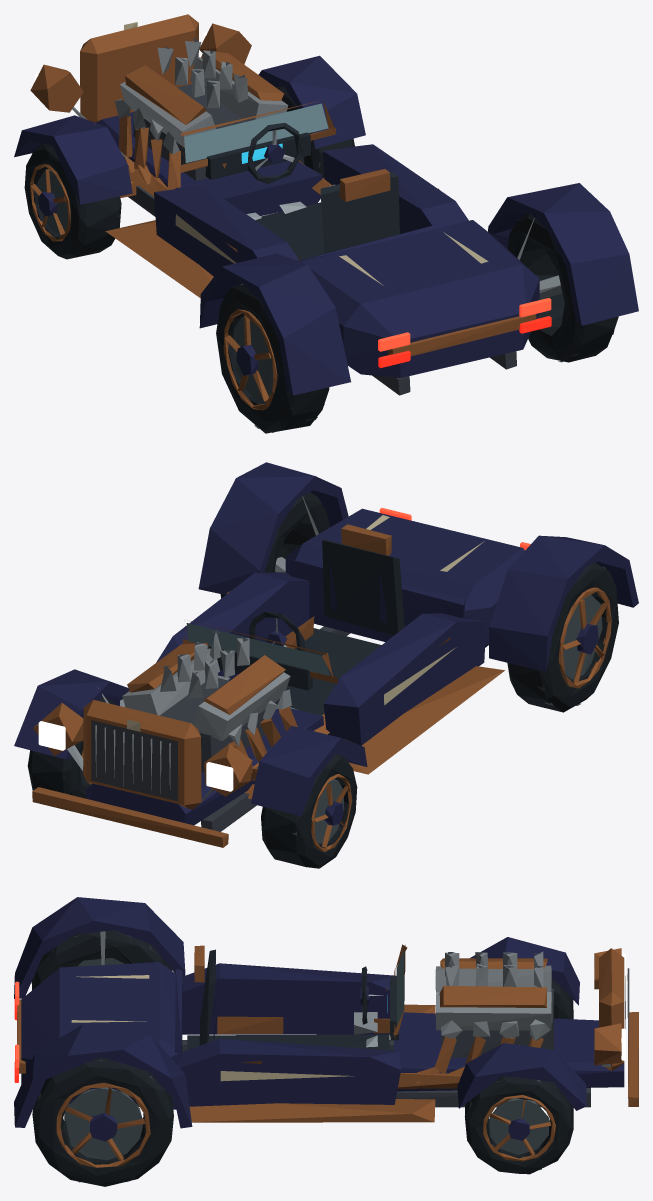
Rendered from comet_lod1.glb.
The picture shows the model from 3 angles, top to bottom: view 1: azimuth 30°, elevation 25°; view 2: azimuth 150°, elevation 25°; view 3: azimuth 270°, elevation 25°; orthographic projection. The views are drawn at different scales.
Visible parts, largest first — view 1: body_mesh, wheel_rl, wheel_fl, wheel_rr, steering_wheel, light_tail_mesh, wheel_fr, light_brake_mesh; view 2: body_mesh, wheel_rl, wheel_fl, wheel_rr, wheel_fr, light_head_mesh, steering_wheel; view 3: body_mesh, wheel_rr, wheel_fr, wheel_rl, wheel_fl.
Boxes of the visible parts, x1=… form: body_mesh: x1=14, y1=14, x2=638, y2=395; wheel_rl: x1=216, y1=283, x2=329, y2=433; wheel_fl: x1=24, y1=143, x2=121, y2=259; wheel_rr: x1=507, y1=213, x2=618, y2=362; steering_wheel: x1=247, y1=123, x2=303, y2=183; light_tail_mesh: x1=378, y1=298, x2=551, y2=351; wheel_fr: x1=276, y1=86, x2=354, y2=177; light_brake_mesh: x1=378, y1=316, x2=551, y2=368; body_mesh: x1=14, y1=462, x2=638, y2=847; wheel_rl: x1=507, y1=562, x2=618, y2=712; wheel_fl: x1=261, y1=754, x2=357, y2=868; wheel_rr: x1=220, y1=492, x2=329, y2=598; wheel_fr: x1=27, y1=696, x2=115, y2=798; light_head_mesh: x1=38, y1=721, x2=233, y2=791; steering_wheel: x1=249, y1=612, x2=304, y2=651; body_mesh: x1=14, y1=897, x2=638, y2=1128; wheel_rr: x1=32, y1=1057, x2=173, y2=1186; wheel_fr: x1=464, y1=1076, x2=573, y2=1174; wheel_rl: x1=31, y1=930, x2=172, y2=990; wheel_fl: x1=551, y1=980, x2=573, y2=1019.
Size of the model in its own units: 2.02 by 0.9717 by 3.44.
